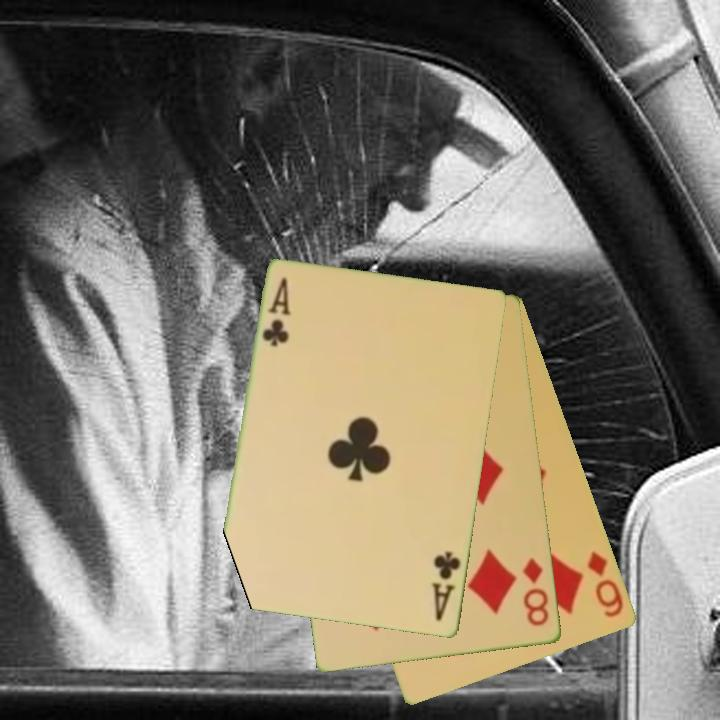6d: (584, 548, 627, 621)
8d: (519, 555, 552, 629)
Ac: (428, 548, 464, 624), (259, 274, 293, 350)
